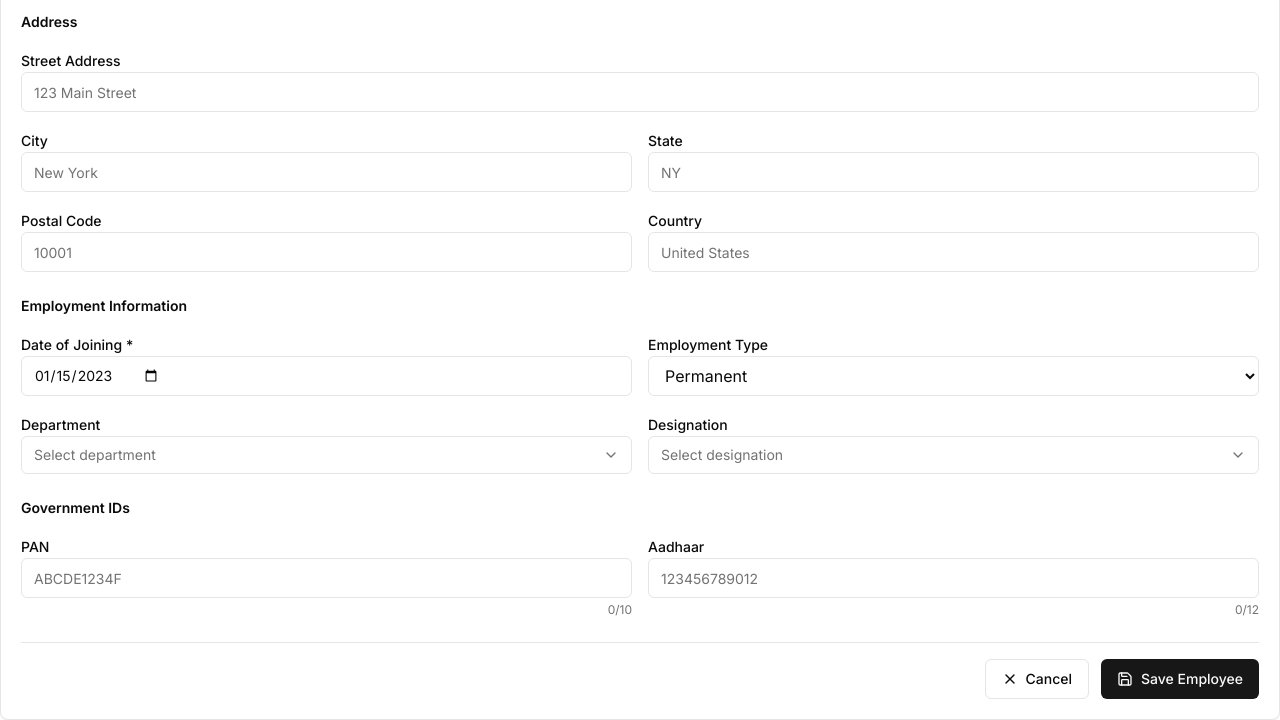
Test case: EmployeeForm Validation › Required Field Validation › should show error for missing first name
The width and height of the screenshot is (1280, 720).
(page scrolled)
What coordinates should you click on to do the following:
click the button "Save Employee"
I would click on:
 (1180, 679)
Its box is [1101,659,1259,699].
(page scrolled)
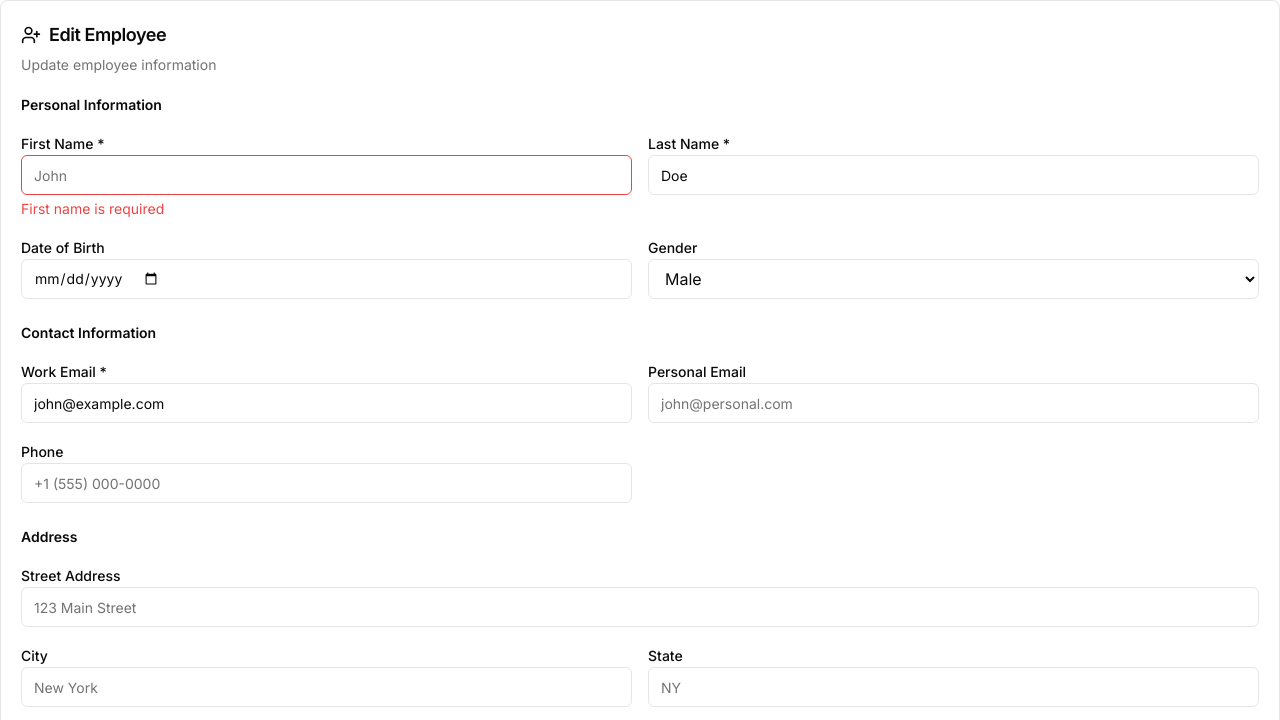
Now the text "First name is required" is shown, box [21,200,164,217]
